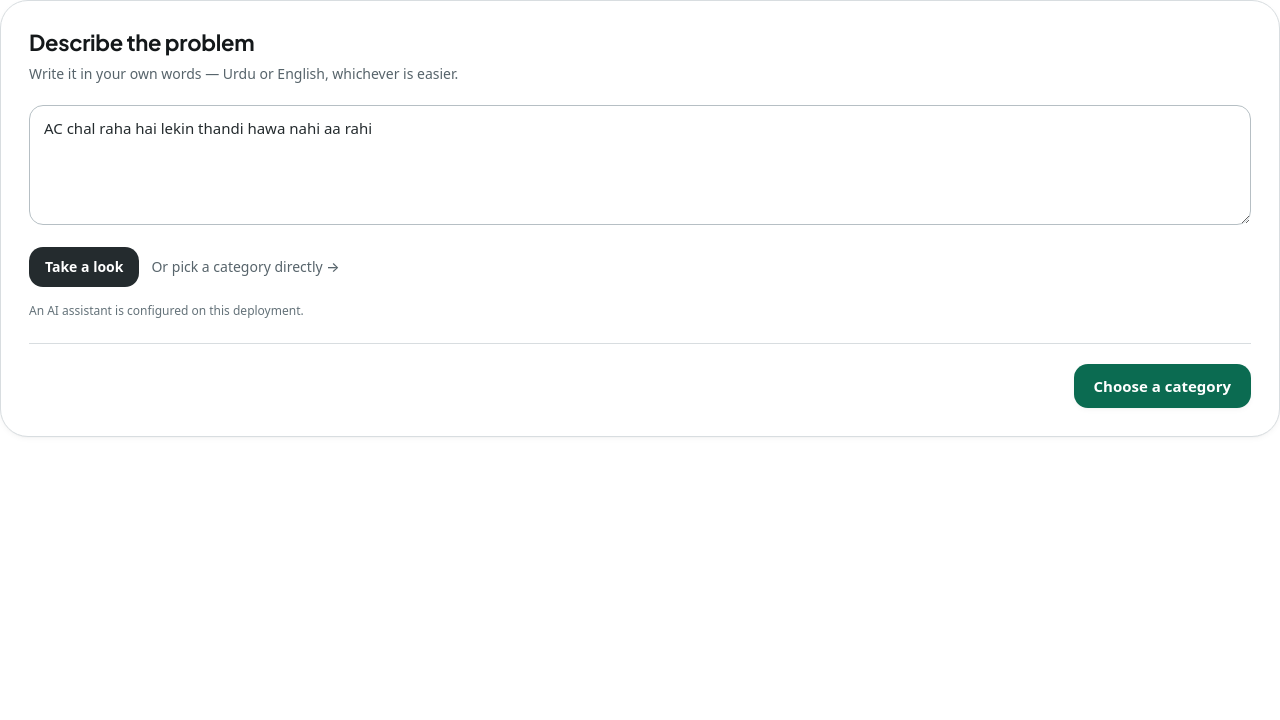
Test: intake step › warns when the model fell back, rather than passing the answer off as AI
This screenshot has width=1280, height=720.
Click the button "Take a look".
click(84, 267)  # box 29,247 -> 139,287
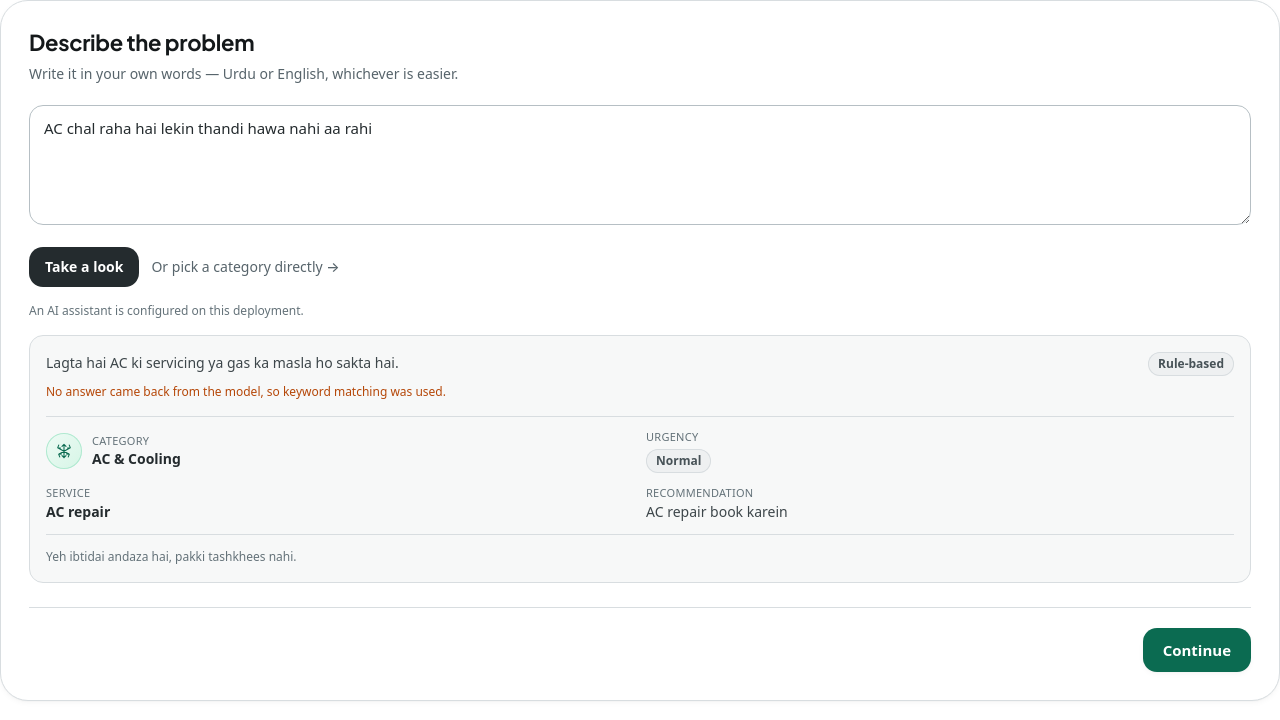
Now the text "keyword matching was used" is shown, box 46,383 -> 446,400
